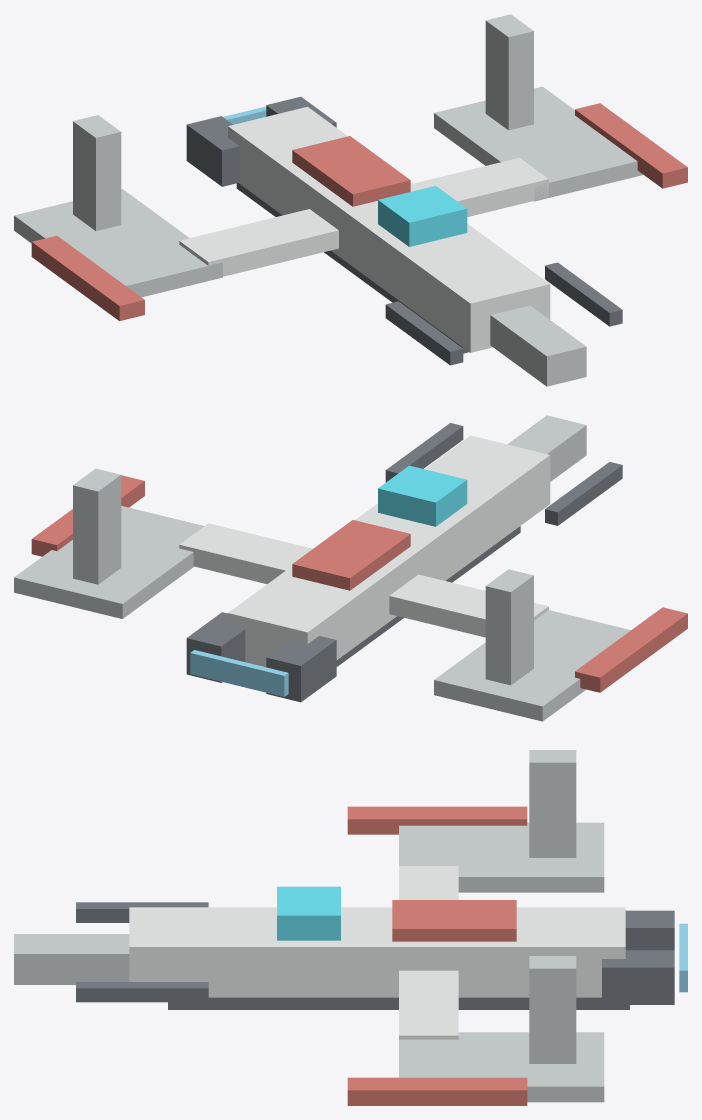
The model's file is micro_v_lancer_v1.glb.
The picture shows the model from 3 angles, top to bottom: view 1: azimuth 30°, elevation 25°; view 2: azimuth 150°, elevation 25°; view 3: azimuth 270°, elevation 25°; orthographic projection. The views are drawn at different scales.
Parts seen in each view (by area): view 1: spine, right_outer_wing, left_outer_wing, left_inner_wing, nose_prong, right_vertical_fin, left_vertical_fin, red_dorsal_mark, right_inner_wing, cockpit, left_red_tip, right_red_tip (+5 smaller); view 2: spine, right_outer_wing, left_outer_wing, right_vertical_fin, left_vertical_fin, red_dorsal_mark, right_inner_wing, left_inner_wing, cockpit, left_red_tip, left_engine, nose_prong (+6 smaller); view 3: spine, left_outer_wing, right_outer_wing, nose_prong, red_dorsal_mark, right_red_tip, left_vertical_fin, right_vertical_fin, belly_shadow, right_inner_wing, left_red_tip, right_engine (+6 smaller).
Boxes of the visible parts, <box> form: spine: <box>228,106,550,352</box>; right_outer_wing: <box>434,86,642,201</box>; left_outer_wing: <box>14,189,222,297</box>; left_inner_wing: <box>179,209,338,276</box>; nose_prong: <box>490,305,586,386</box>; right_vertical_fin: <box>485,14,533,130</box>; left_vertical_fin: <box>73,115,121,230</box>; red_dorsal_mark: <box>292,136,410,206</box>; right_inner_wing: <box>413,157,548,216</box>; cockpit: <box>378,185,467,246</box>; left_red_tip: <box>31,235,144,321</box>; right_red_tip: <box>575,103,687,188</box>; spine: <box>228,435,550,667</box>; right_outer_wing: <box>14,506,203,618</box>; left_outer_wing: <box>434,610,630,721</box>; right_vertical_fin: <box>73,468,121,584</box>; left_vertical_fin: <box>485,569,533,685</box>; red_dorsal_mark: <box>292,520,410,590</box>; right_inner_wing: <box>179,523,312,583</box>; left_inner_wing: <box>389,574,548,637</box>; cockpit: <box>378,465,467,526</box>; left_red_tip: <box>575,607,687,692</box>; left_engine: <box>266,636,336,702</box>; nose_prong: <box>507,415,586,481</box>; spine: <box>129,907,625,997</box>; left_outer_wing: <box>399,822,604,892</box>; right_outer_wing: <box>399,1032,604,1102</box>; nose_prong: <box>14,934,129,984</box>; red_dorsal_mark: <box>392,900,516,941</box>; right_red_tip: <box>347,1077,527,1105</box>; left_vertical_fin: <box>529,750,576,857</box>; right_vertical_fin: <box>529,956,576,1063</box>; belly_shadow: <box>168,997,629,1009</box>; right_inner_wing: <box>399,970,458,1039</box>; left_red_tip: <box>347,806,527,834</box>; right_engine: <box>602,950,674,1004</box>.
Bounding box in the file's own units: 7.85 × 1.76 × 7.88.
